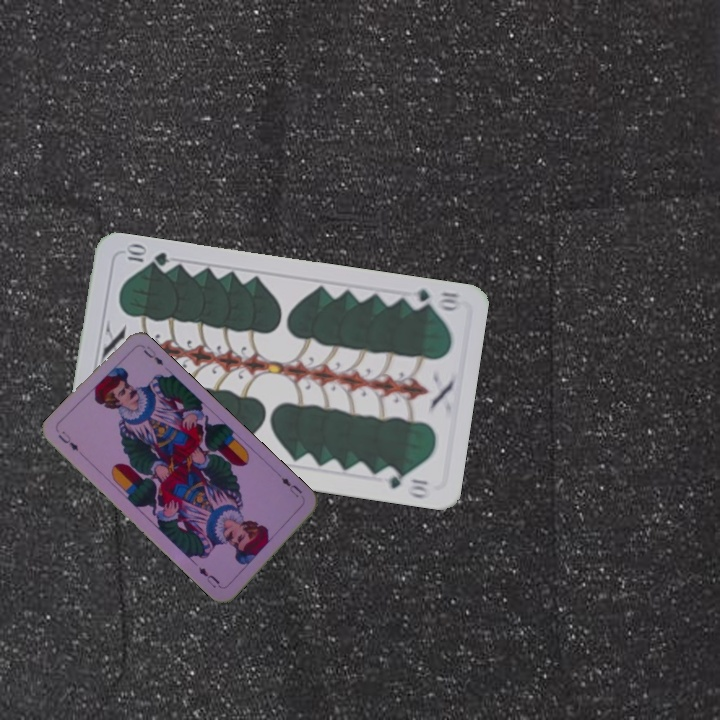EU: (277, 473, 305, 500), (54, 426, 81, 454)
G10: (403, 285, 463, 314)
